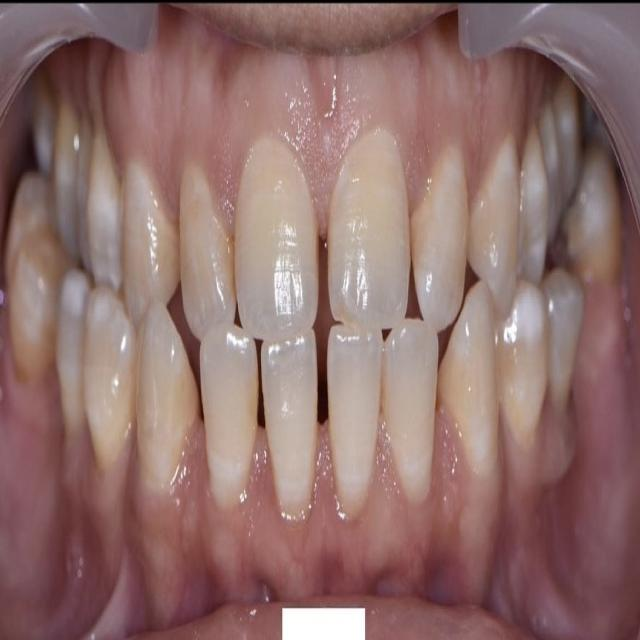tooth: (327, 115, 415, 332), (229, 144, 321, 346), (406, 149, 476, 330), (8, 179, 60, 369), (387, 334, 439, 522), (140, 312, 194, 493), (327, 327, 377, 510), (262, 342, 318, 502), (199, 331, 253, 490), (176, 178, 233, 320), (442, 335, 502, 469), (85, 294, 136, 442), (120, 185, 172, 296), (58, 270, 92, 428), (87, 138, 123, 267), (55, 97, 85, 242)
